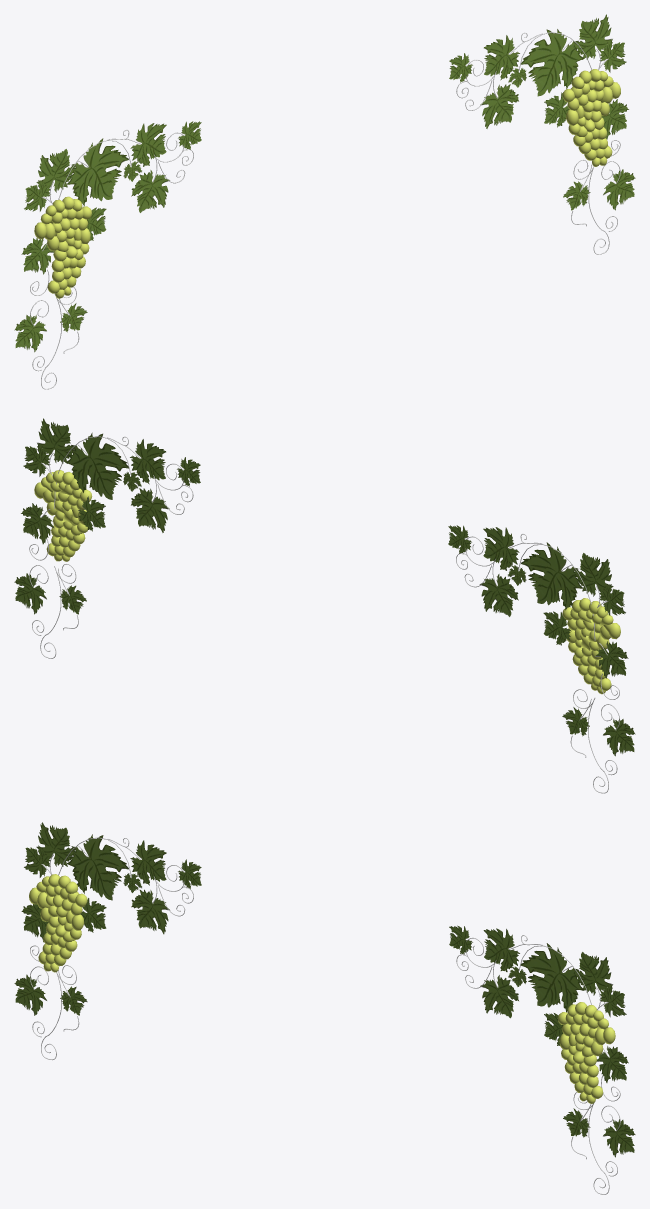
File: FSM-Yazii-160825-6.gltf
The picture shows the model from 3 angles, top to bottom: view 1: azimuth 30°, elevation 25°; view 2: azimuth 150°, elevation 25°; view 3: azimuth 330°, elevation 25°; orthographic projection.
Visible parts, largest first — view 1: Dal, Cube.004, Cube.005, Cube.007, Cube.023, Cube.001, Cube.003, Cube.022, Cube.006, Cube.010, Cube.024, Cube.008; view 2: Dal, Cube.004, Cube.005, Cube.007, Cube.023, Cube.022, Cube.001, Cube.003, Cube.006, Cube.024, Cube.010, Cube.008; view 3: Dal, Cube.005, Cube.004, Cube.007, Cube.023, Cube.003, Cube.001, Cube.022, Cube.006, Cube.010, Cube.024, Cube.008.
Boxes of the visible parts, box(x1,y1,x2,y2) form: Dal: box(21, 14, 620, 389); Cube.004: box(34, 196, 91, 298); Cube.005: box(562, 69, 620, 166); Cube.007: box(521, 29, 583, 96); Cube.023: box(67, 138, 128, 206); Cube.001: box(480, 84, 518, 128); Cube.003: box(131, 170, 170, 212); Cube.022: box(36, 149, 74, 192); Cube.006: box(603, 169, 635, 210); Cube.010: box(14, 314, 46, 352); Cube.024: box(601, 99, 628, 139); Cube.008: box(599, 40, 626, 72); Dal: box(29, 418, 628, 793); Cube.004: box(562, 598, 620, 694); Cube.005: box(34, 470, 92, 561); Cube.007: box(67, 432, 128, 499); Cube.023: box(521, 542, 582, 610); Cube.022: box(574, 553, 613, 596); Cube.001: box(131, 488, 169, 532); Cube.003: box(479, 574, 518, 616); Cube.006: box(14, 573, 46, 614); Cube.024: box(21, 503, 54, 544); Cube.010: box(603, 718, 635, 756); Cube.008: box(23, 444, 50, 476); Dal: box(21, 837, 620, 1194); Cube.005: box(557, 1002, 615, 1103); Cube.004: box(29, 874, 87, 972); Cube.007: box(520, 943, 583, 1012); Cube.023: box(67, 834, 128, 900); Cube.003: box(131, 889, 170, 934); Cube.001: box(480, 975, 518, 1018); Cube.022: box(36, 822, 74, 866); Cube.006: box(603, 1119, 635, 1157); Cube.010: box(14, 974, 46, 1015); Cube.024: box(596, 1046, 628, 1082); Cube.008: box(599, 985, 626, 1017).
Size of the model in its own units: 4.55 by 1.7 by 0.1249.
Materials: 5 (1 with a texture image).
